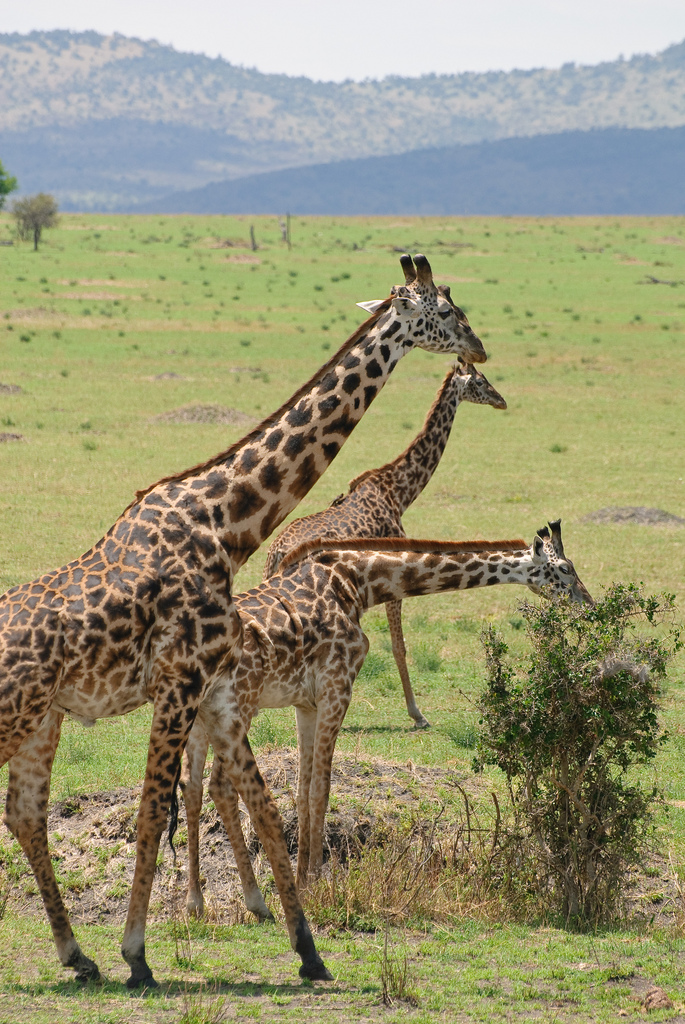giraffe: (1, 263, 461, 967), (195, 525, 620, 940), (309, 349, 521, 564)
